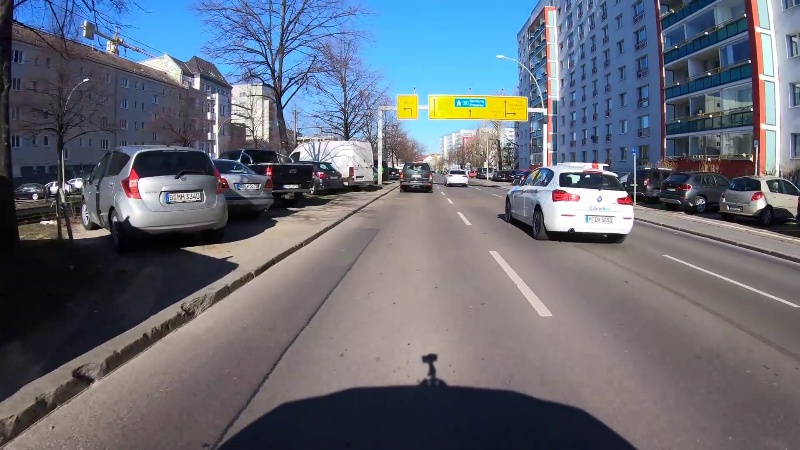Plate: (164, 187, 203, 204), (581, 213, 614, 225), (237, 179, 260, 191)
